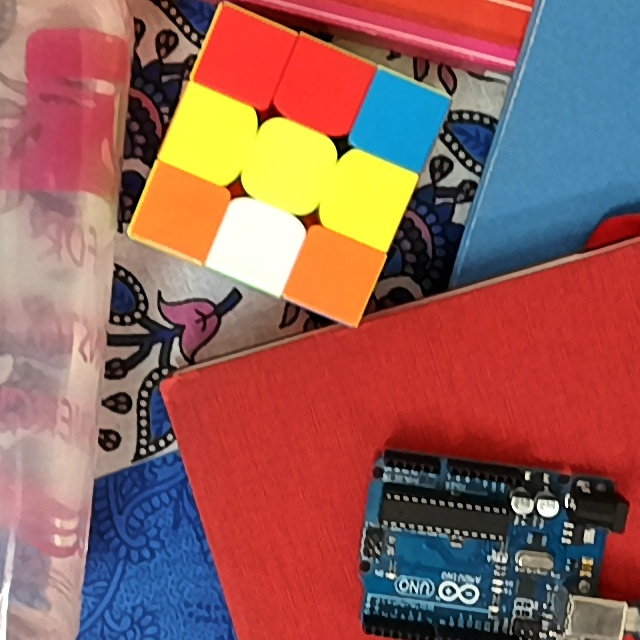tile: (151, 184, 211, 242), (292, 62, 351, 120), (213, 31, 273, 88), (261, 137, 317, 198), (180, 108, 239, 165), (226, 217, 287, 271), (370, 95, 428, 150), (305, 250, 364, 303), (340, 170, 394, 227)
